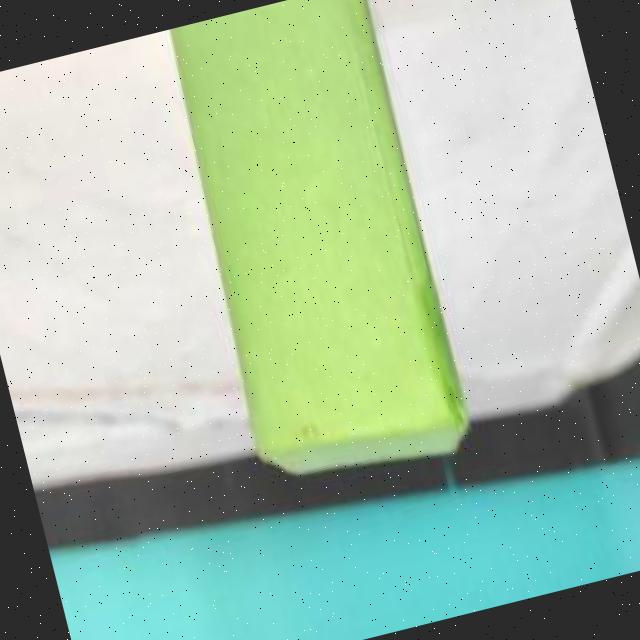greenbox: (147, 0, 481, 509)
